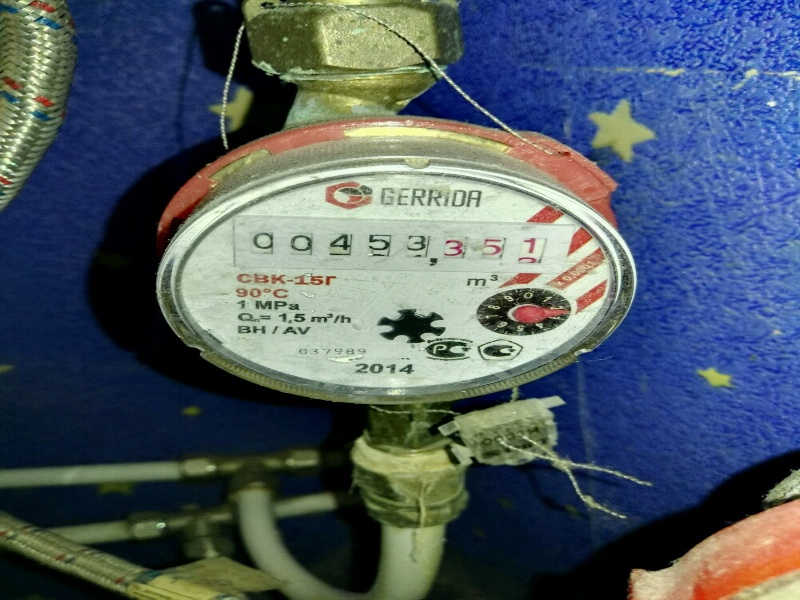meter: (243, 226, 553, 263)
